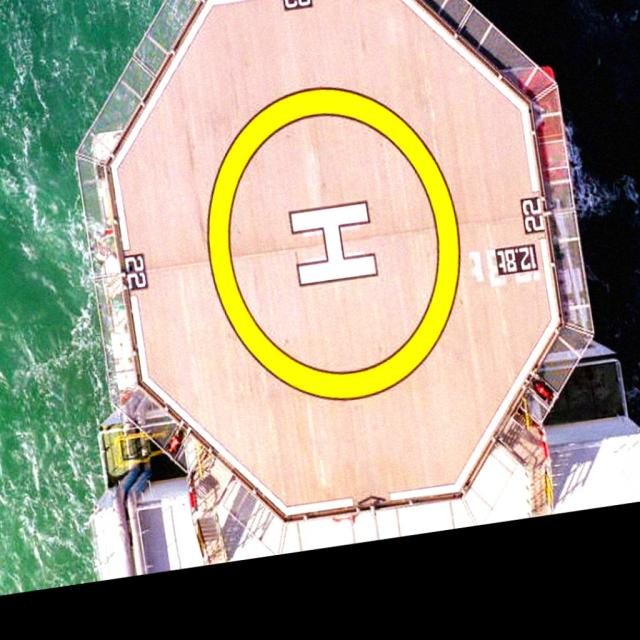helipad: (203, 83, 463, 402)
